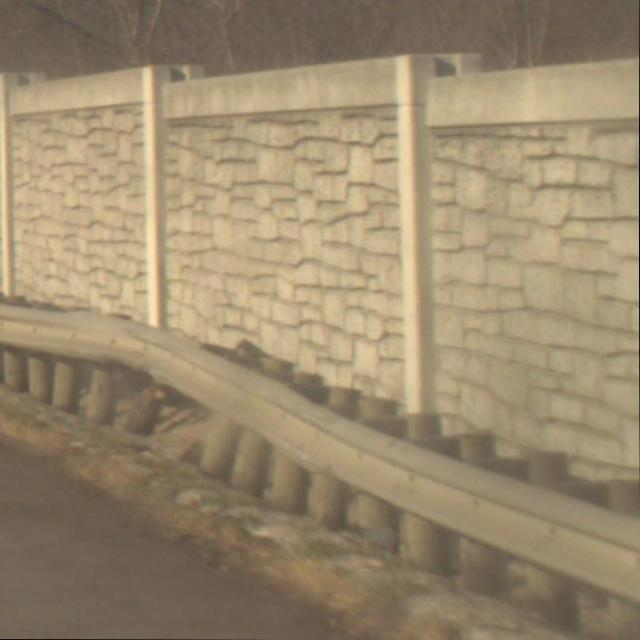Guard rail: (0, 296, 640, 640)
